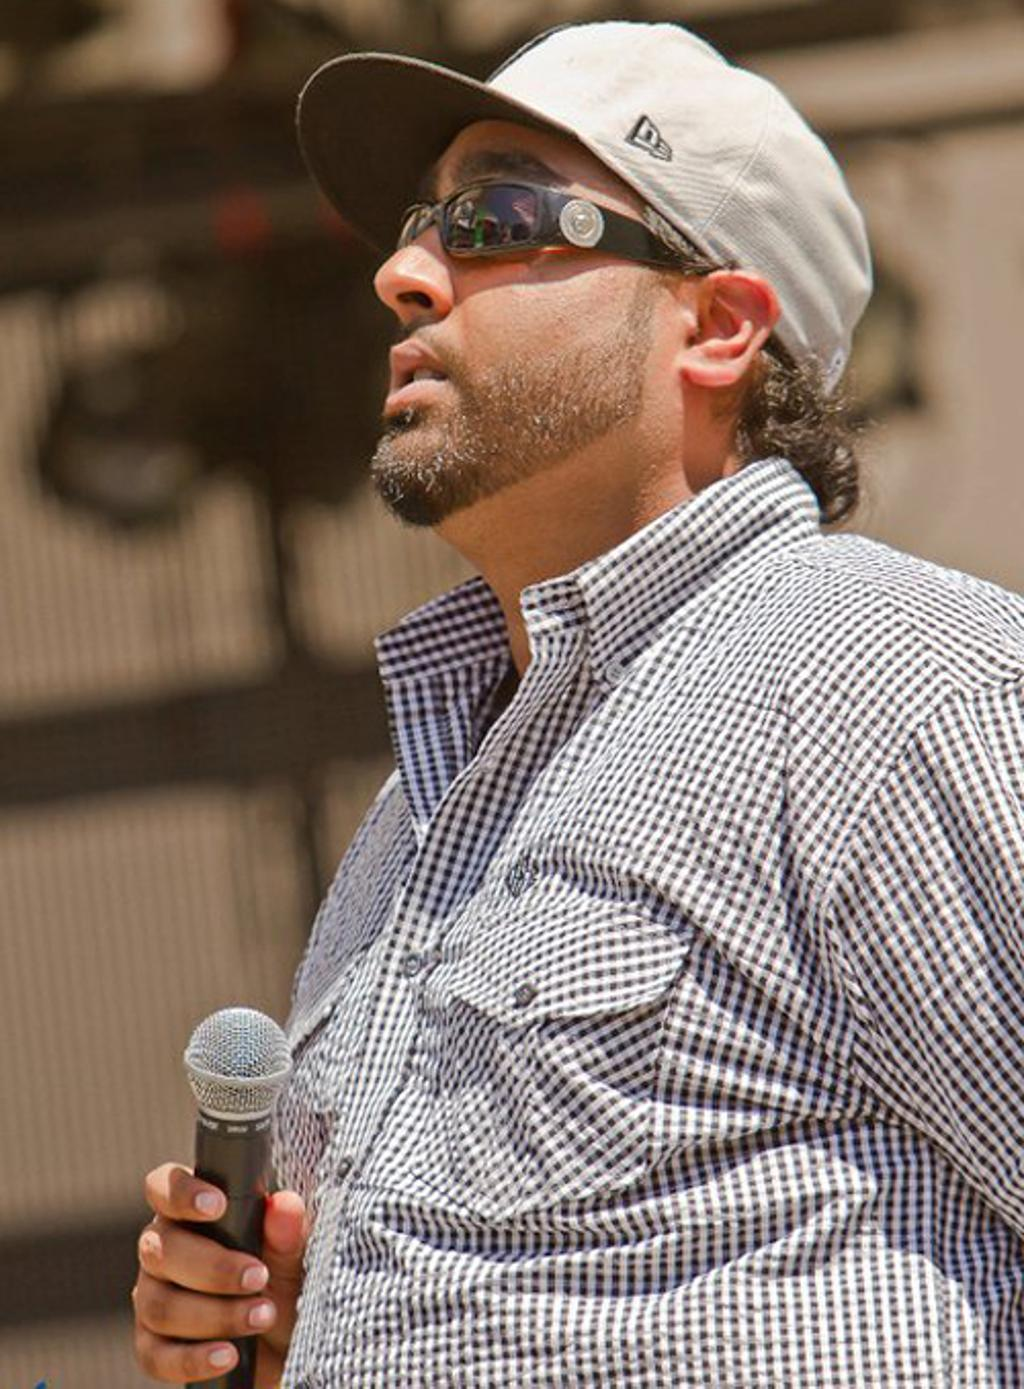face: (377, 84, 680, 509)
